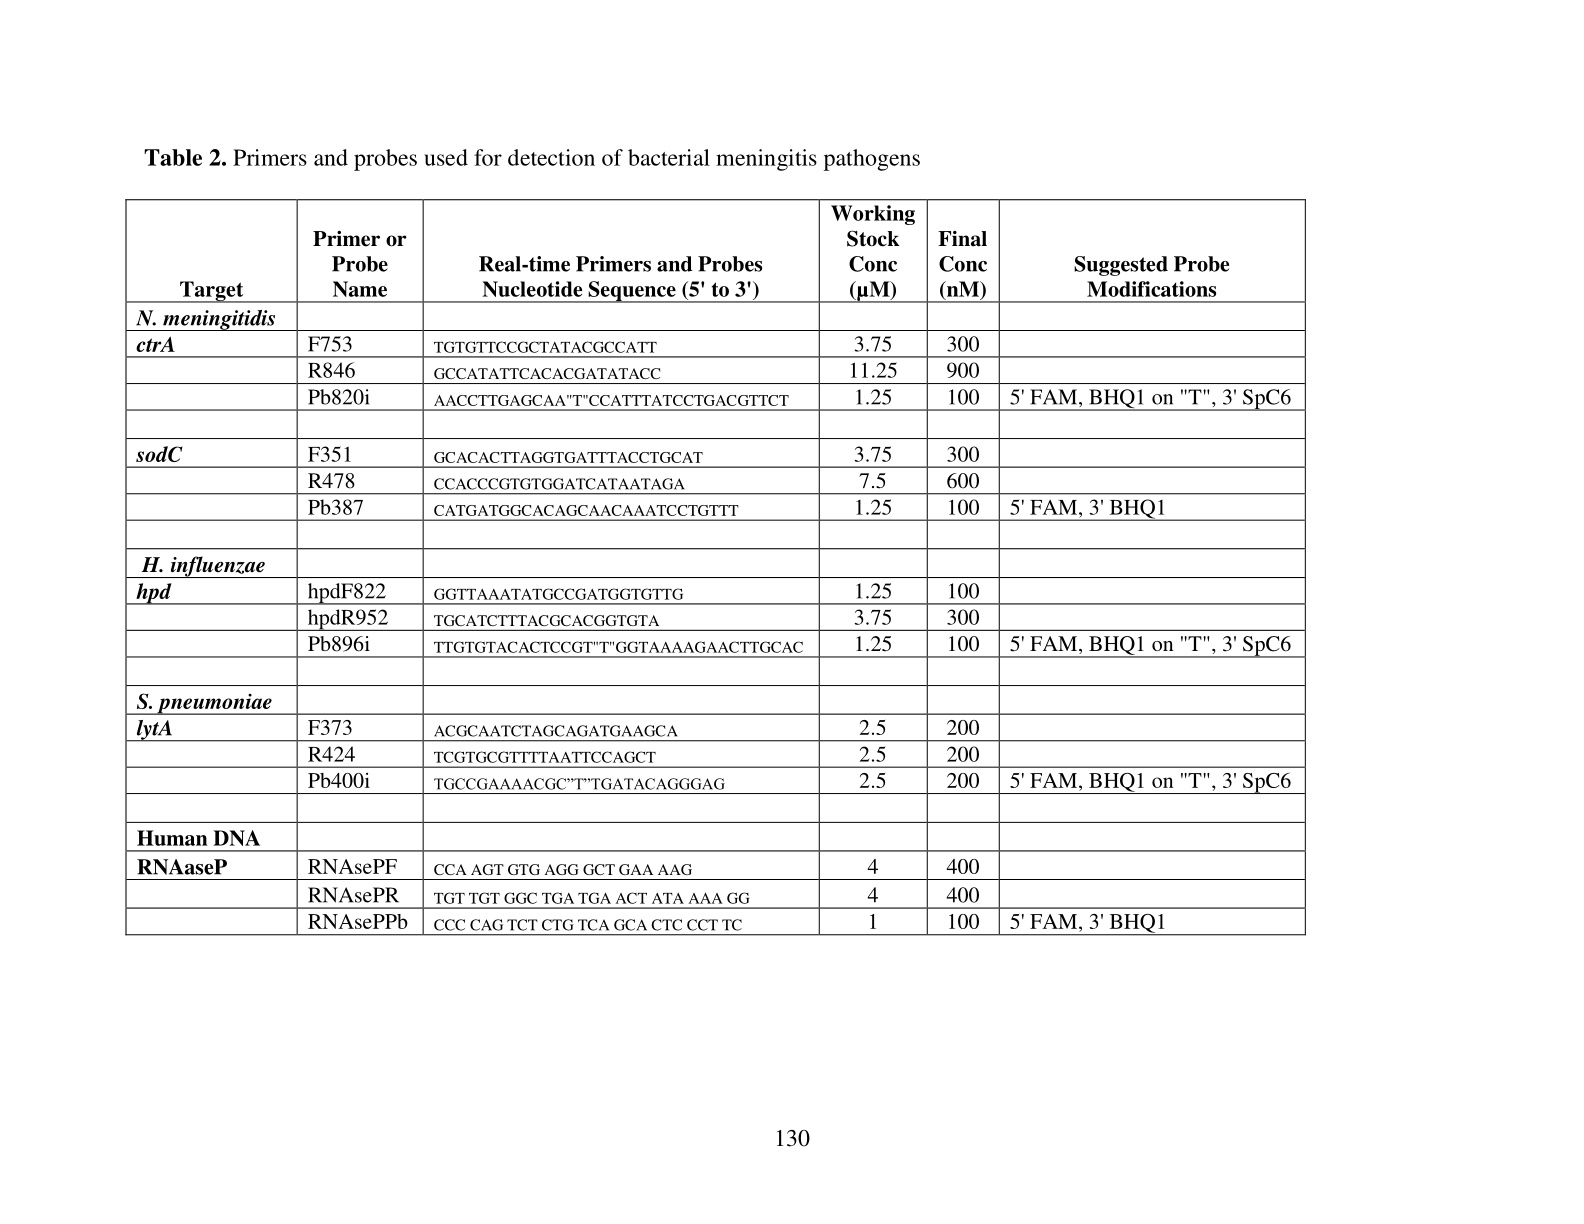full_lined: (125, 199, 1308, 936)
